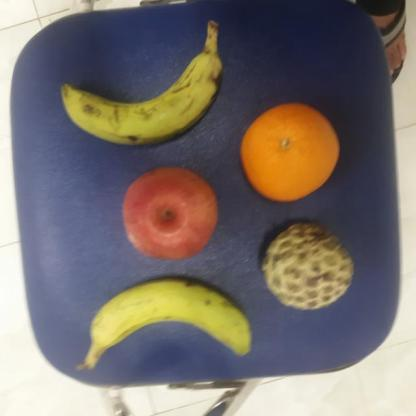annona: (256, 218, 356, 312)
apple: (118, 166, 218, 262)
banana: (64, 54, 224, 149), (86, 274, 250, 352)
orange: (240, 99, 342, 205)
